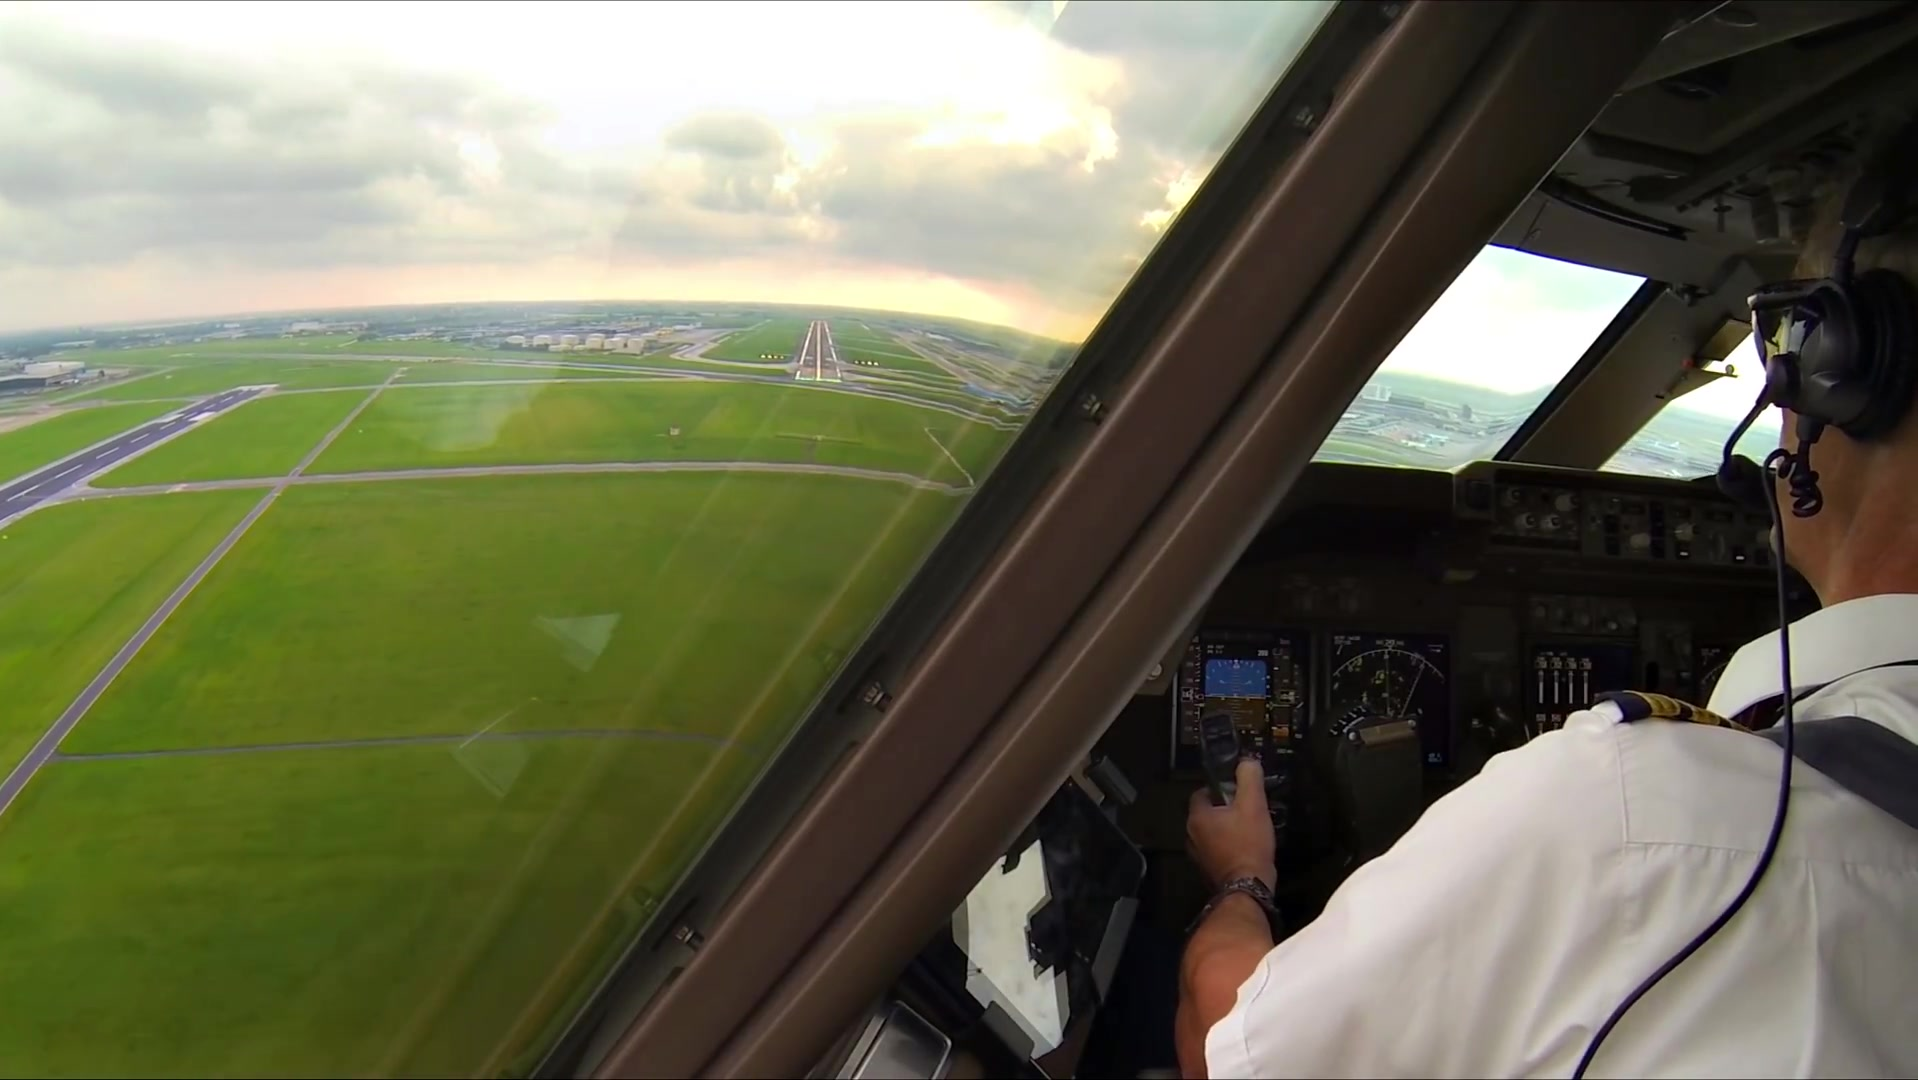runway: (785, 316, 847, 389)
